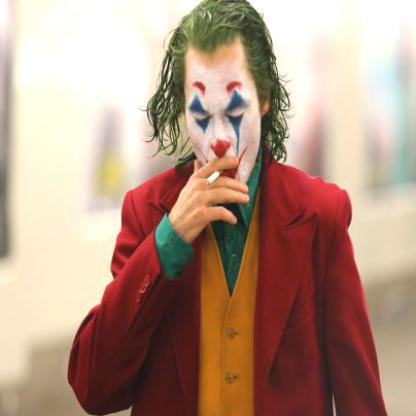cigarette: (205, 167, 226, 187)
person: (98, 11, 359, 415)
